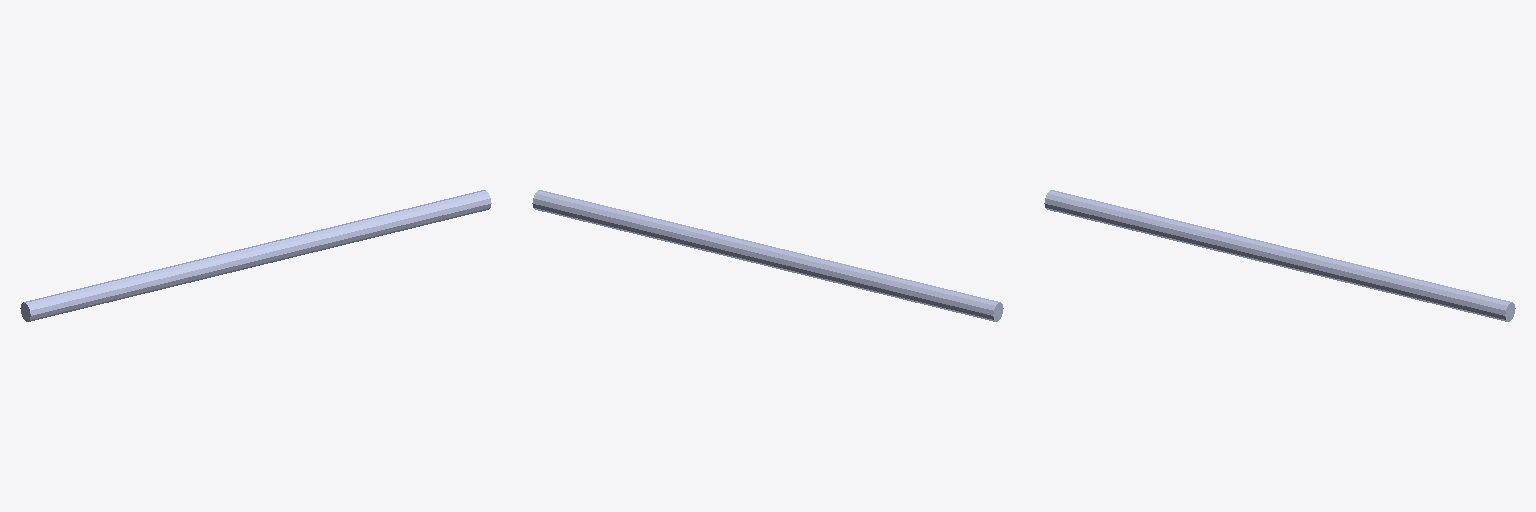
URDF robot description (Axles):
<robot
  name="Axles">
  <link
    name="AxlesURDF">
    <inertial>
      <origin
        xyz="0 4.2594E-20 -2.60804415173552E-36"
        rpy="0 0 0" />
      <mass
        value="0.0052286" />
      <inertia
        ixx="2.63537164453715E-08"
        ixy="-1.62152653436144E-55"
        ixz="2.64824125613941E-39"
        iyy="1.18899184029368E-05"
        iyz="0"
        izz="1.18899184029368E-05" />
    </inertial>
    <visual>
      <origin
        xyz="0 0 0"
        rpy="1.5707963267949 0 0" />
      <geometry>
        <mesh
          filename="package://AxlesURDF/meshes/AxlesURDF.STL" />
      </geometry>
      <material
        name="">
        <color
          rgba="0.79216 0.81961 0.93333 1" />
      </material>
    </visual>
    <collision>
      <origin
        xyz="0 0 0"
        rpy="1.5707963267949 0 0" />
      <geometry>
        <mesh
          filename="package://AxlesURDF/meshes/AxlesURDF.STL" />
      </geometry>
    </collision>
  </link>
</robot>

--- Render facts (derived) ---
Views: 3 orthographic renders of the robot side by side, from view 1: azimuth 30°, elevation 25°; view 2: azimuth 150°, elevation 25°; view 3: azimuth 330°, elevation 25°.
Model Axles with 1 links and 0 joints (none), rooted at AxlesURDF, posed every joint at zero.
Visible links, largest first — view 1: AxlesURDF; view 2: AxlesURDF; view 3: AxlesURDF.
Link boxes in pixels (x1,y1,x2,y2): AxlesURDF: [20, 190, 491, 321]; AxlesURDF: [532, 190, 1003, 321]; AxlesURDF: [1044, 190, 1515, 321].
Bounding box of the posed robot: 0.1651 × 0.0063 × 0.0063 m (x, y, z).
Meshes: 1 distinct files referenced, 1 mesh visuals loaded (1 binary STL).
